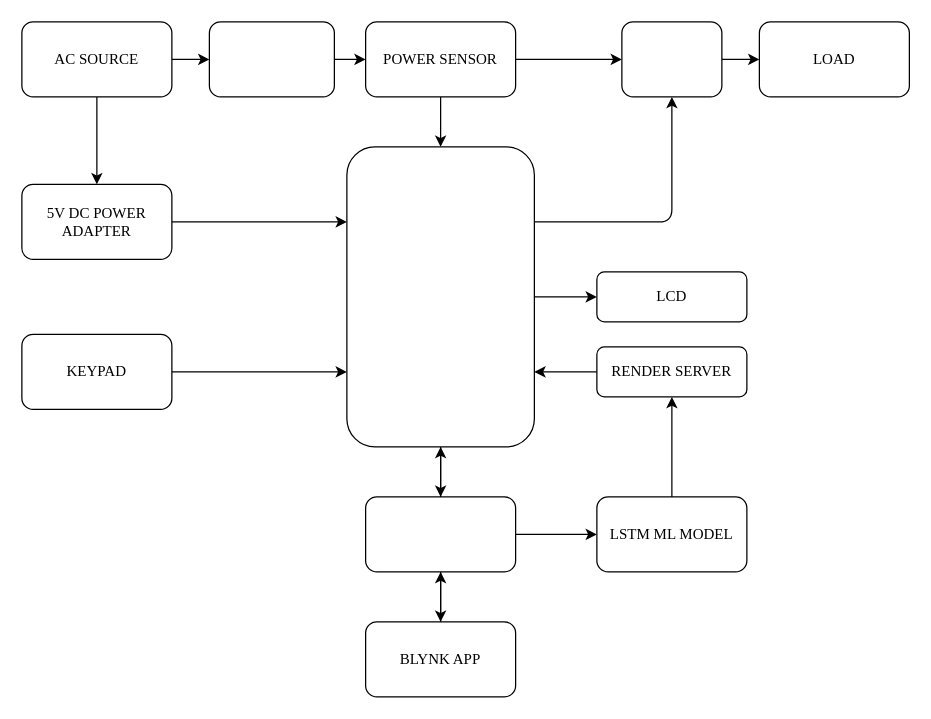
This 931x719 diagram has some shape labels left out. The shapes that lost their labels are listed below. From the top down, each one's centre as x and y in pixels, then its label:
At (271,59): "CURRENT TRANSFORMER".
At (671,59): "RELAY".
At (440,296): "ESP 32 MICRO-CONTROLLER".
At (440,534): "BLYNK SERVER".
